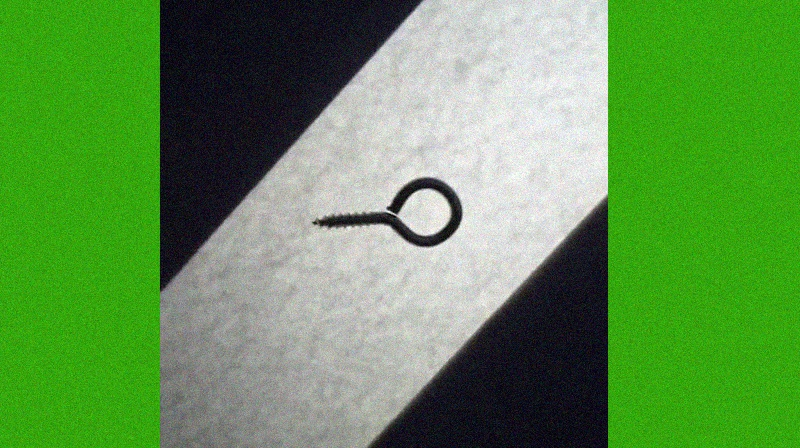O001: (306, 173, 462, 248)
